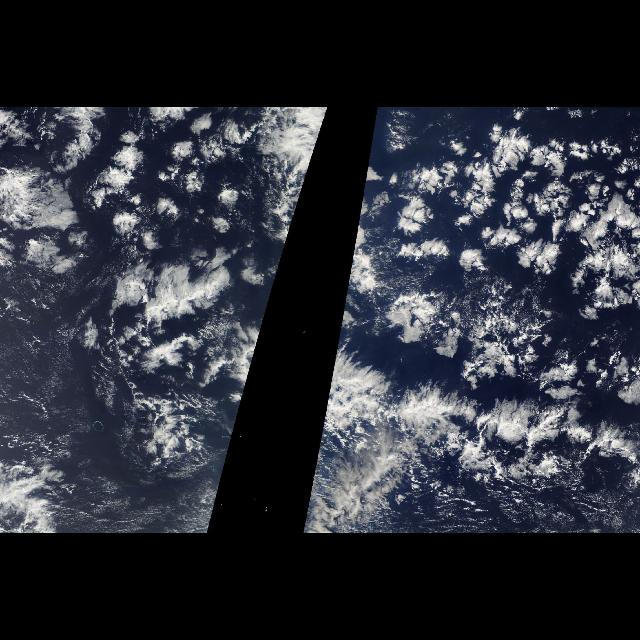Fish: (314, 345, 566, 511)
Flower: (380, 110, 640, 406), (5, 108, 271, 326)
